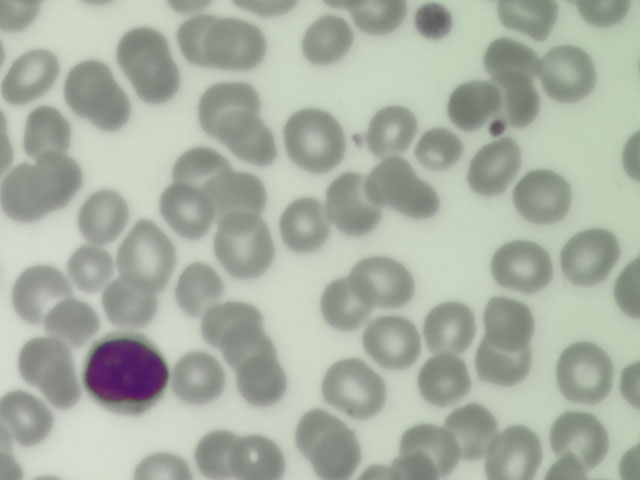Platelets: (413, 2, 454, 40), (486, 117, 511, 142)
RBC: (371, 162, 433, 214), (486, 422, 540, 480), (279, 196, 333, 253), (445, 403, 499, 460), (326, 358, 380, 415), (292, 401, 346, 458), (170, 349, 224, 406), (172, 259, 226, 316), (104, 274, 158, 331), (122, 224, 176, 281), (75, 185, 129, 242), (11, 333, 65, 390), (11, 260, 65, 317), (417, 351, 471, 408), (423, 300, 477, 357), (316, 275, 370, 332), (477, 329, 531, 386), (550, 411, 604, 468), (557, 344, 611, 401), (495, 238, 549, 295), (564, 229, 618, 286), (513, 168, 567, 225), (465, 137, 519, 194), (365, 101, 419, 158), (445, 77, 499, 134), (540, 46, 594, 103), (302, 15, 356, 72), (205, 17, 259, 74), (177, 12, 231, 69), (116, 23, 170, 80), (67, 59, 121, 116), (32, 153, 86, 210), (22, 101, 76, 158), (1, 48, 55, 105), (324, 175, 378, 232), (233, 356, 287, 413), (216, 216, 270, 273), (209, 171, 263, 228), (287, 111, 341, 168), (173, 144, 227, 201), (154, 182, 208, 239), (200, 78, 254, 135), (403, 421, 457, 478), (1, 389, 54, 446), (1, 164, 53, 221), (359, 252, 411, 307), (493, 74, 550, 124), (365, 312, 418, 365), (62, 241, 114, 294), (482, 37, 539, 85), (225, 320, 276, 372), (191, 427, 240, 480), (232, 432, 286, 480), (480, 295, 534, 343), (307, 432, 360, 480), (205, 299, 259, 346), (502, 1, 562, 43), (46, 297, 99, 342), (416, 127, 468, 170), (89, 88, 135, 134), (608, 258, 640, 323), (368, 451, 435, 480), (141, 60, 184, 102), (354, 1, 408, 34), (135, 449, 191, 480), (41, 371, 84, 411), (577, 1, 630, 32), (613, 351, 640, 411), (612, 129, 640, 183), (1, 1, 40, 32), (613, 446, 640, 480)
WBC: (81, 331, 173, 414)
